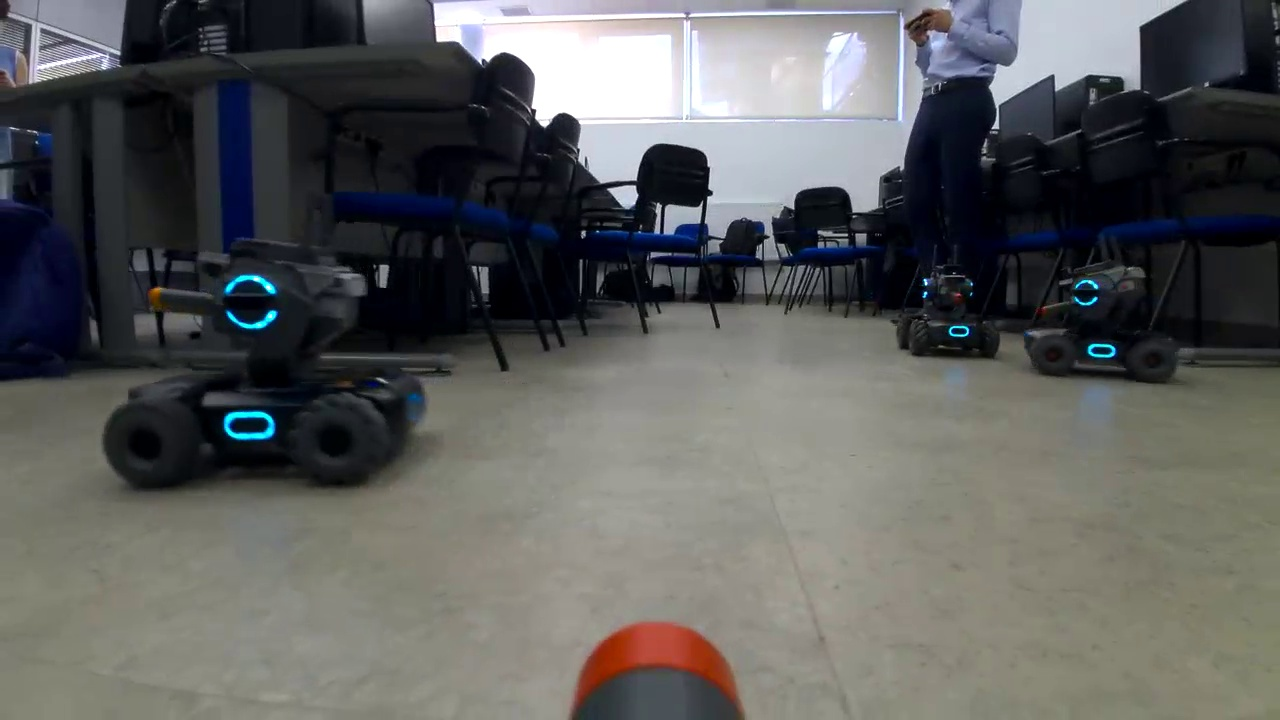robot: (92, 229, 464, 493), (1018, 252, 1183, 386), (893, 256, 1003, 361)
